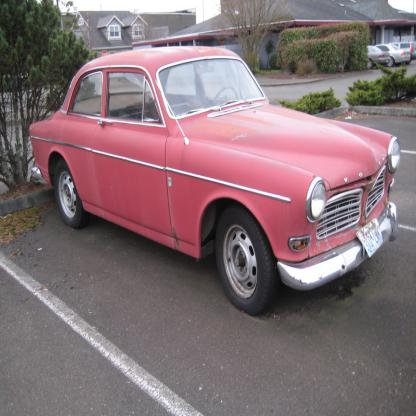Car: (27, 41, 408, 315), (377, 40, 413, 76), (362, 46, 393, 72), (395, 38, 416, 62)
